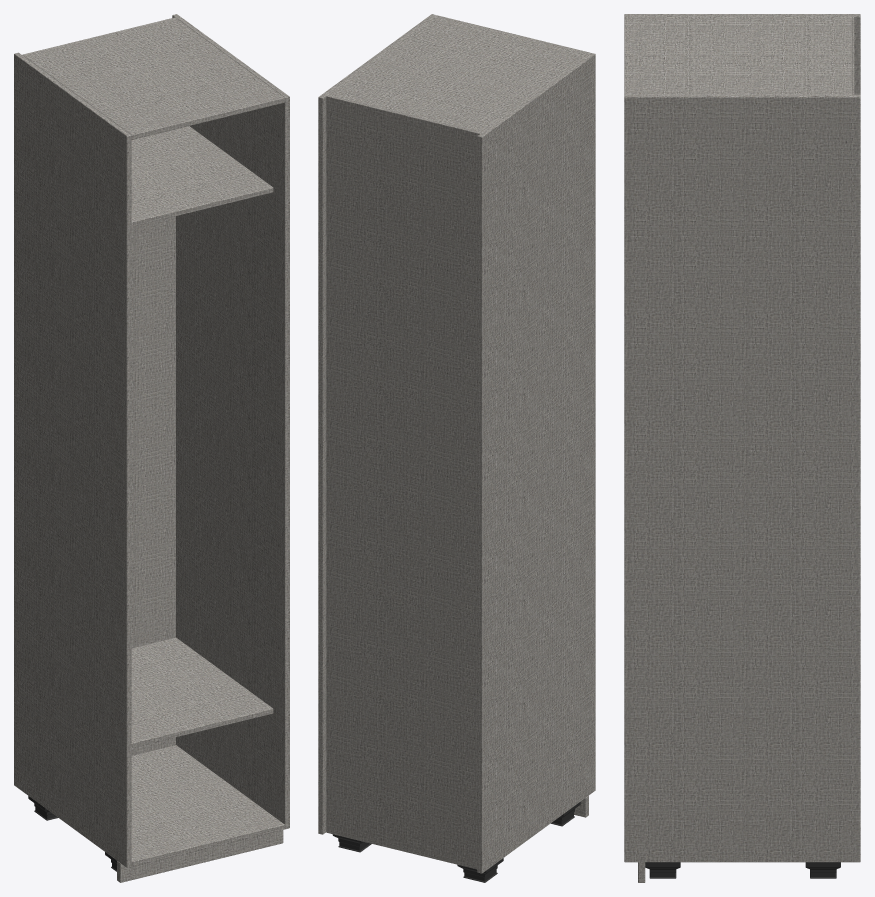
The model's file is cbib12125.gltf.
3 renders of one model, left to right at view 1: azimuth 30°, elevation 25°; view 2: azimuth 150°, elevation 25°; view 3: azimuth 270°, elevation 25°, orthographic. The views are drawn at different scales.
Visible parts, largest first — view 1: CBIB12125; view 2: CBIB12125; view 3: CBIB12125.
Boxes of the visible parts, bbox=[...] form: CBIB12125: bbox=[14, 14, 289, 882]; CBIB12125: bbox=[318, 14, 595, 882]; CBIB12125: bbox=[624, 14, 860, 882].
Bounding box in the file's own units: 0.5 × 2.2 × 0.6.
Materials: 3 (2 with a texture image).
